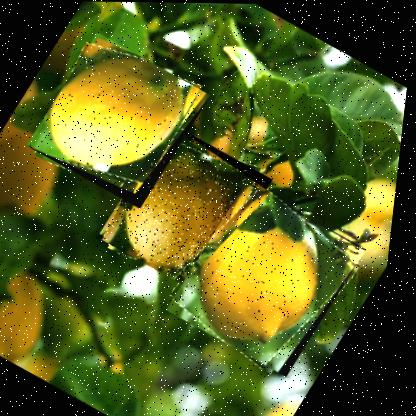lemon: (166, 179, 377, 377), (22, 29, 218, 209), (96, 119, 281, 294)
